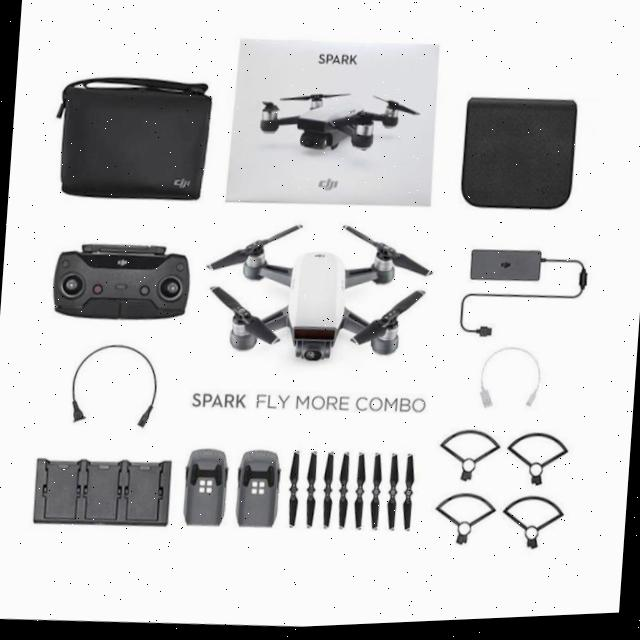drone: (197, 215, 448, 387)
